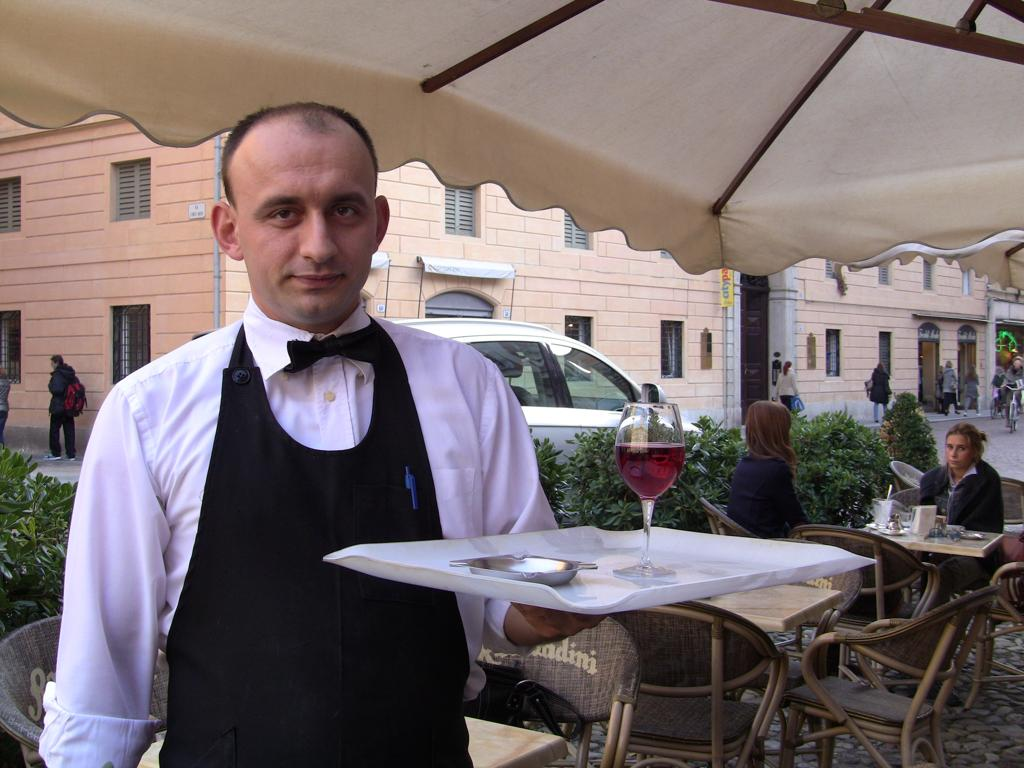face: (243, 149, 376, 325), (945, 437, 972, 468), (50, 360, 56, 371)
